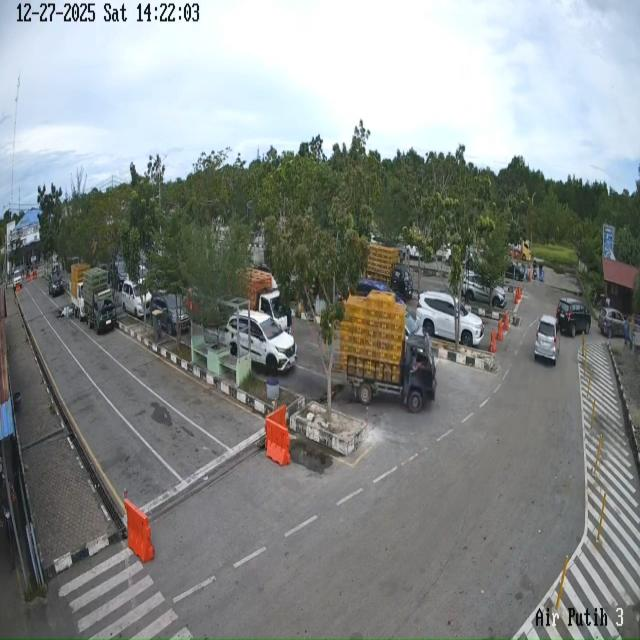Golongan IVA: (219, 310, 297, 371), (416, 291, 484, 347), (150, 292, 190, 336), (463, 272, 506, 308), (556, 297, 591, 337), (534, 314, 560, 365), (121, 279, 151, 318), (598, 308, 625, 338), (48, 272, 65, 297)
Golongan IVB: (338, 294, 437, 416), (366, 243, 414, 299), (82, 267, 116, 334), (68, 263, 90, 321)
